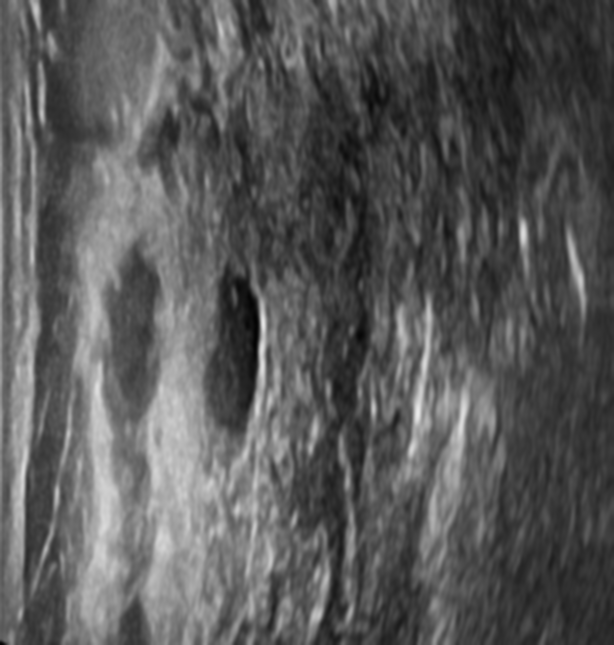Normal: (23, 0, 581, 643)
